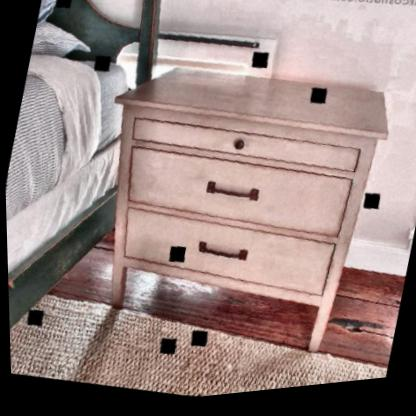Nightstand: (75, 41, 402, 373)
